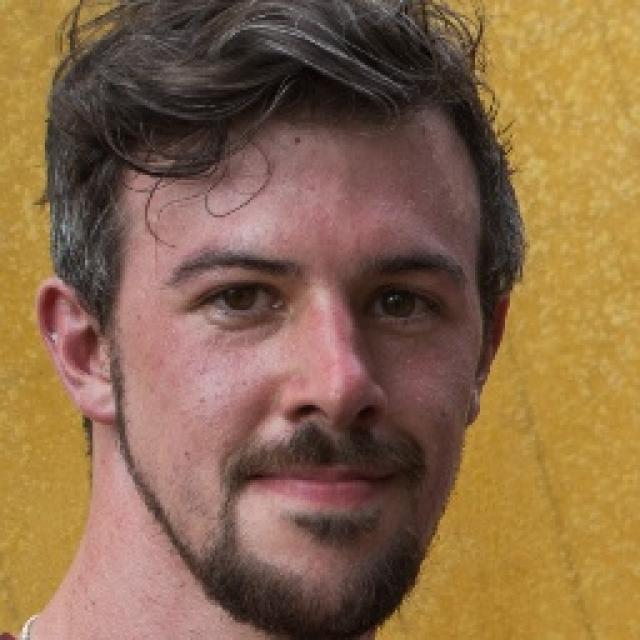earlobe: (70, 374, 120, 428), (466, 375, 489, 426)
eye: (200, 283, 282, 314), (368, 296, 442, 323)
nose: (283, 411, 388, 462)
wholeear: (38, 279, 120, 429), (466, 290, 512, 426)
